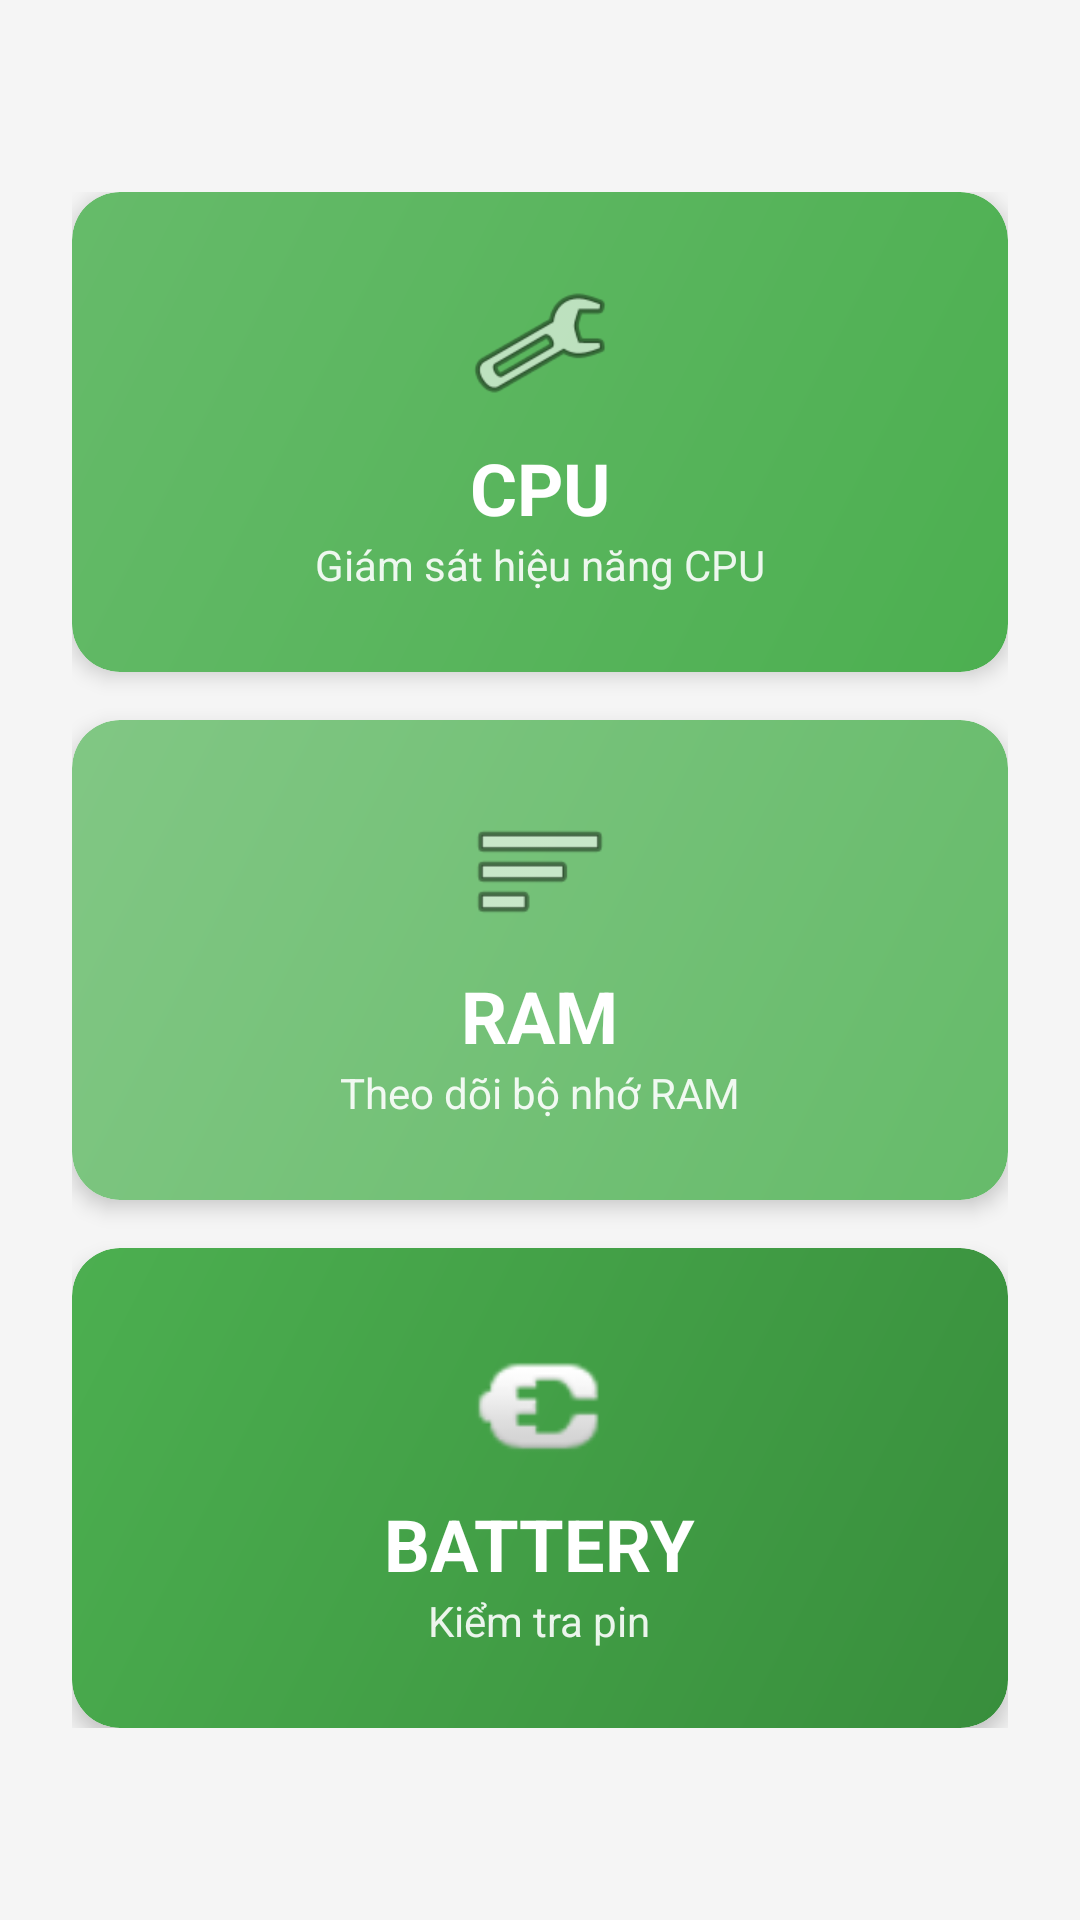

Point at icon controls on the screen. Image size 1080px×1920px, points as (x,y).
manage: (540,343)
sort by size: (540,871)
